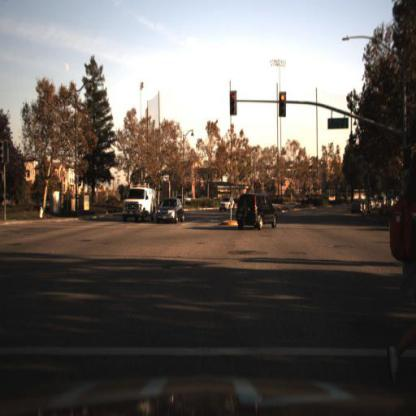car: (236, 192, 280, 233), (124, 184, 157, 226), (157, 198, 188, 227), (350, 197, 369, 219), (220, 196, 237, 215)
pedestrian: (384, 144, 416, 397)
trafficLight-Red: (277, 88, 289, 121), (402, 146, 415, 174)
trafficLight-RedLeft: (229, 88, 239, 119)
